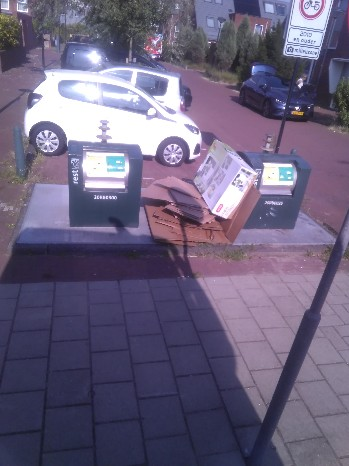Container: (65, 137, 148, 233), (246, 149, 309, 223)
Rest: (157, 173, 217, 256), (201, 146, 250, 218)
Voertuig: (44, 70, 194, 149), (75, 38, 187, 103), (248, 71, 308, 123)
